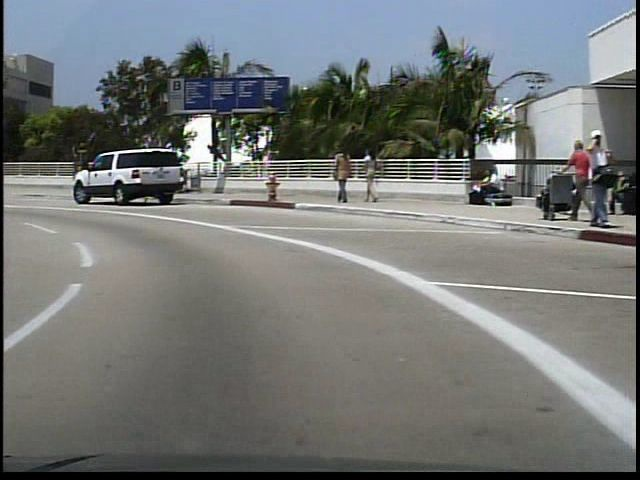person: (559, 135, 588, 225), (357, 147, 380, 205), (330, 141, 350, 207), (469, 167, 499, 207)
